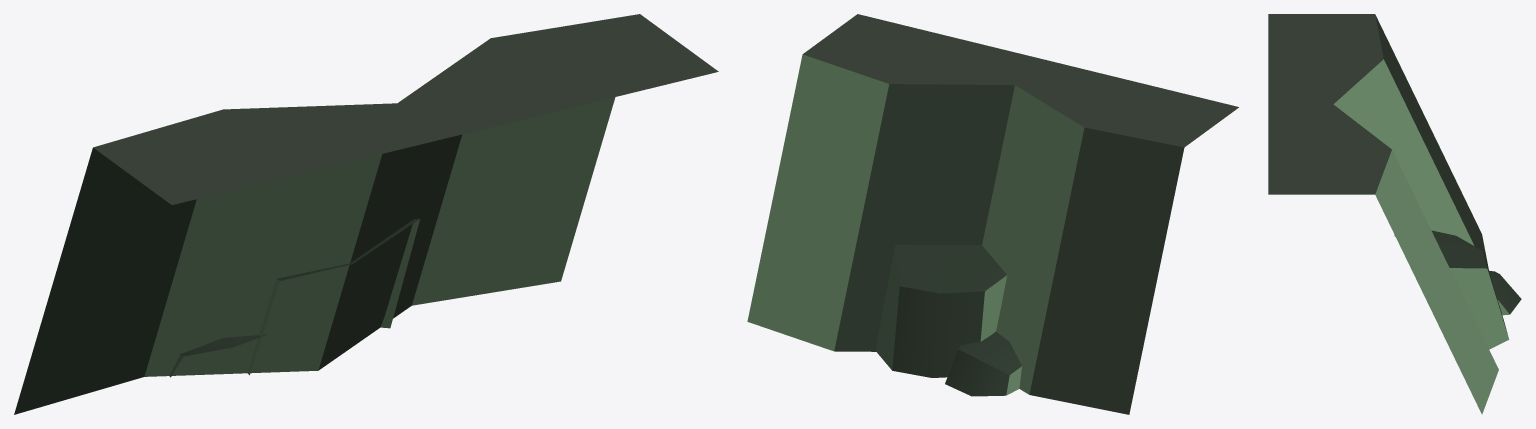
The model's file is SF_Env_RockEdge_Straight_02.glb.
3 renders of one model, left to right at view 1: azimuth 30°, elevation 25°; view 2: azimuth 150°, elevation 25°; view 3: azimuth 270°, elevation 25°, orthographic. The views are drawn at different scales.
Parts seen in each view (by area): view 1: SF_Env_RockEdge_Straight_02; view 2: SF_Env_RockEdge_Straight_02; view 3: SF_Env_RockEdge_Straight_02.
Boxes of the visible parts, x1=… form: SF_Env_RockEdge_Straight_02: x1=14, y1=14, x2=718, y2=414; SF_Env_RockEdge_Straight_02: x1=747, y1=14, x2=1238, y2=414; SF_Env_RockEdge_Straight_02: x1=1268, y1=14, x2=1521, y2=414.
Size of the model in its own units: 0.1 by 0.0568 by 0.0593.
1 material, 1 textured.
